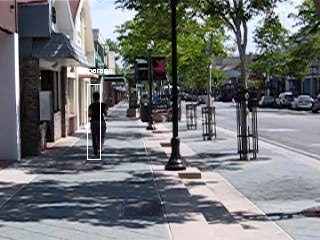person: (87, 92, 108, 158), (86, 92, 107, 158), (88, 92, 109, 158), (87, 91, 108, 157), (87, 93, 108, 159)
target_negative: (44, 73, 115, 179), (203, 99, 257, 194), (132, 172, 217, 215), (116, 202, 261, 218), (229, 183, 270, 208)
